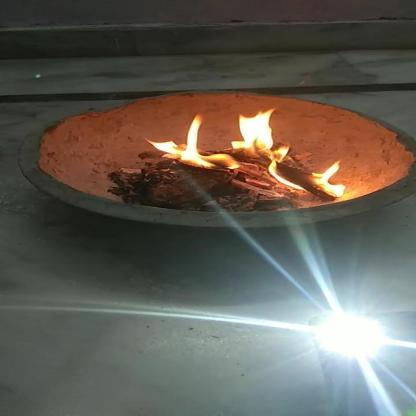fire: (143, 105, 311, 170), (306, 162, 353, 196)
